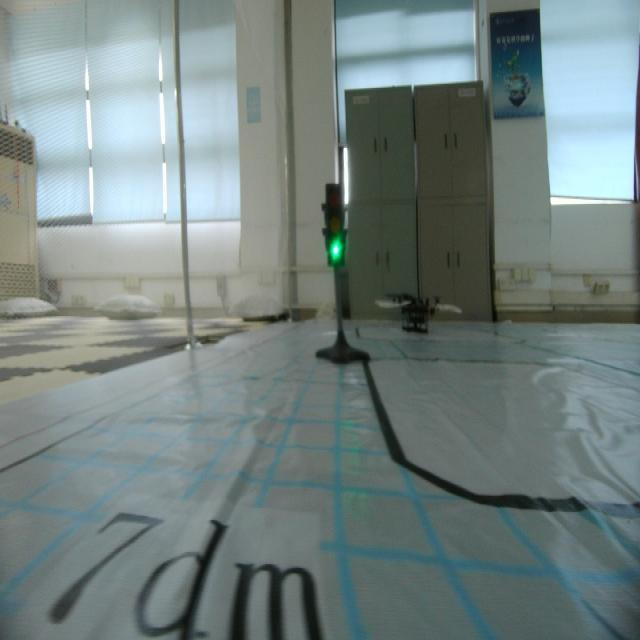green: (317, 182, 354, 274)
